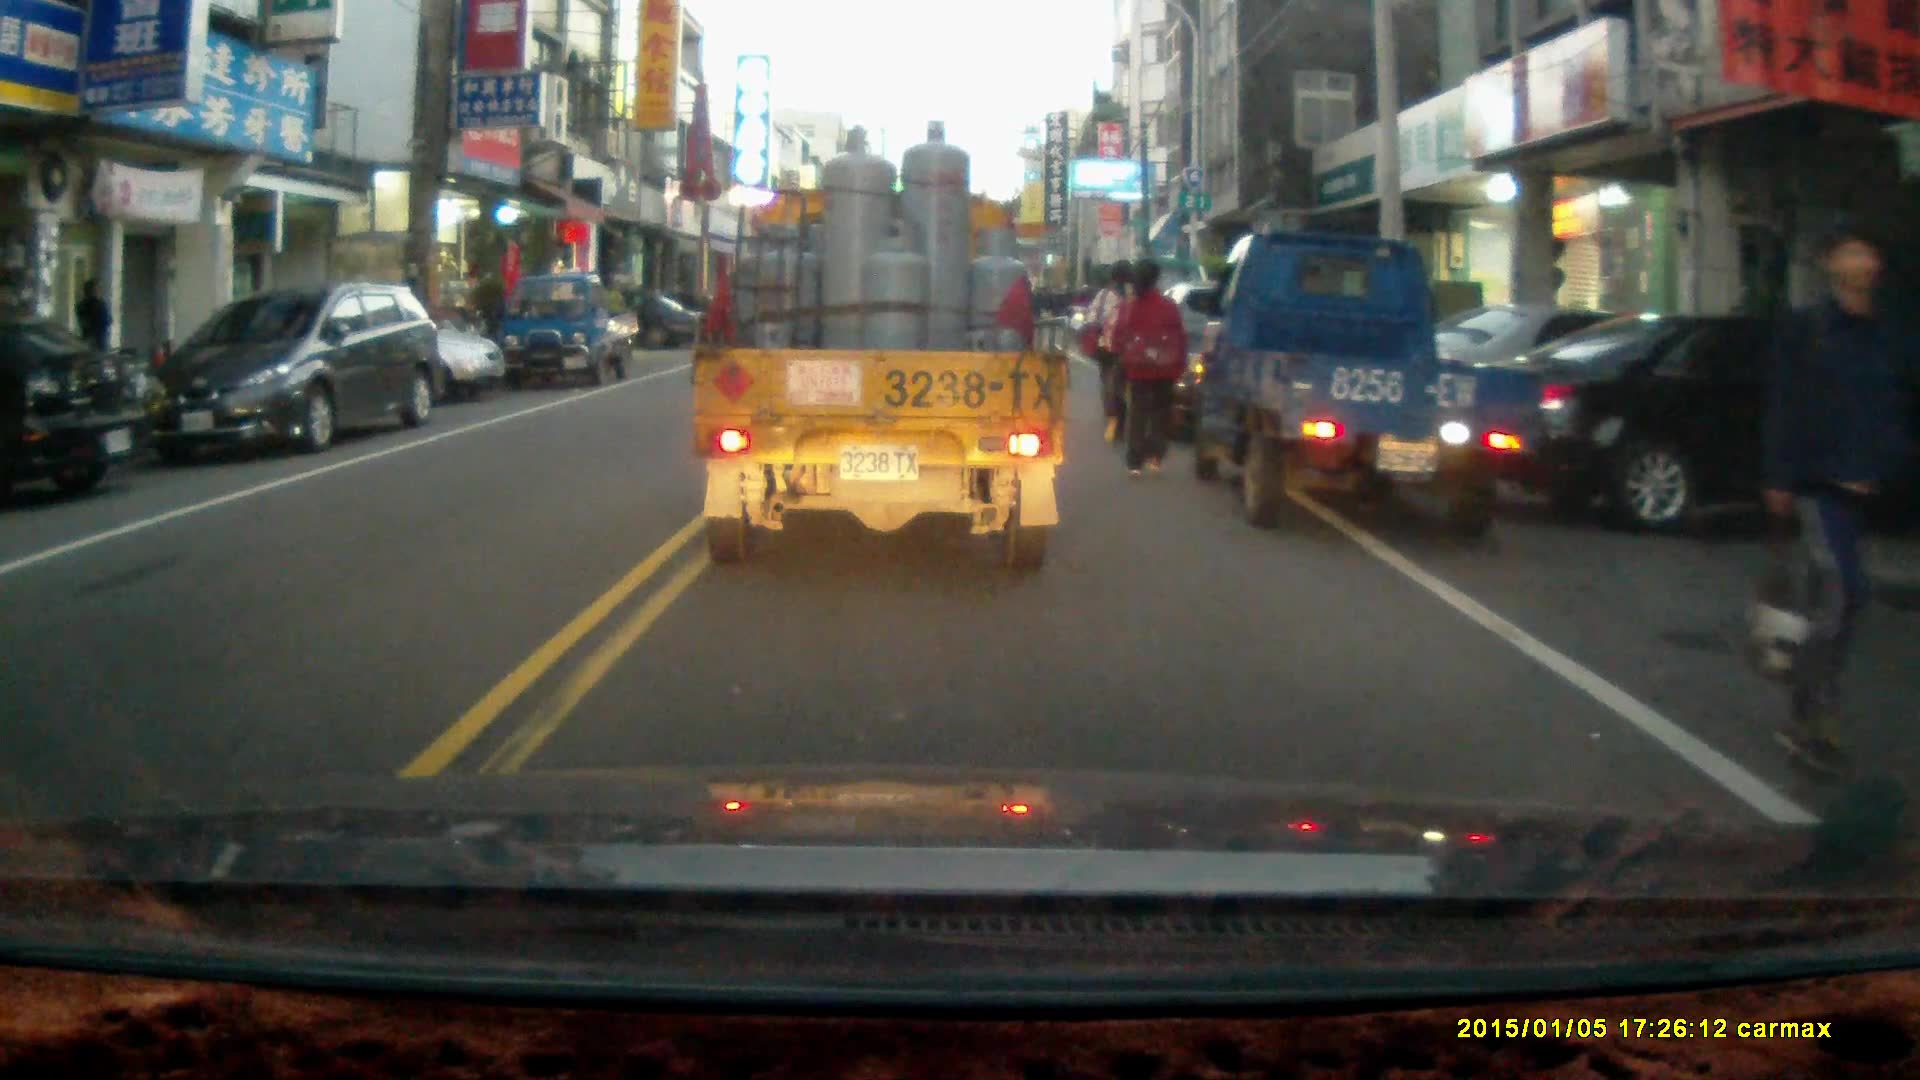pedestrian: (1759, 222, 1906, 778), (1107, 255, 1187, 476), (1084, 257, 1146, 441), (67, 273, 114, 387)
rider: (1066, 284, 1095, 345)
vehicle: (688, 119, 1071, 578), (1189, 231, 1544, 543), (138, 281, 446, 461), (243, 292, 506, 408), (1, 316, 155, 507), (496, 272, 635, 392)
